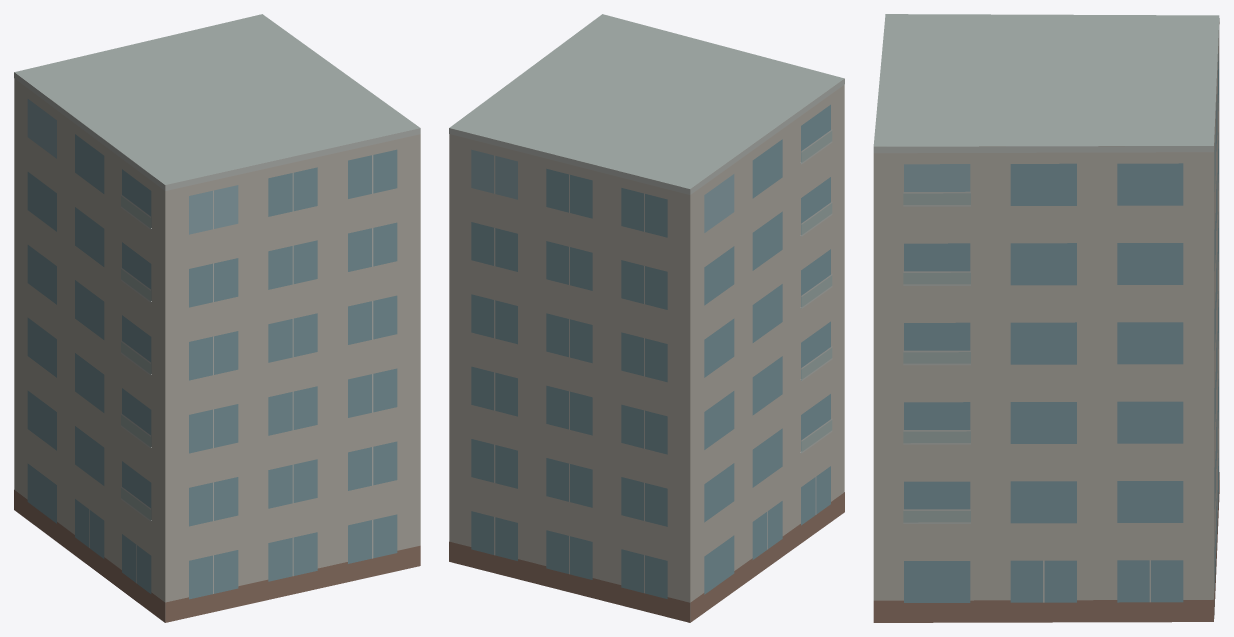
File: survey-upis-32983628.glb
The picture shows the model from 3 angles, left to right: view 1: azimuth 30°, elevation 25°; view 2: azimuth 150°, elevation 25°; view 3: azimuth 270°, elevation 25°; orthographic projection. The views are drawn at different scales.
Parts seen in each view (by area): view 1: survey-upis-32983628.tmp; view 2: survey-upis-32983628.tmp; view 3: survey-upis-32983628.tmp.
Part boxes in pixels (bbox=[...]): survey-upis-32983628.tmp: bbox=[14, 14, 420, 622]; survey-upis-32983628.tmp: bbox=[449, 14, 844, 622]; survey-upis-32983628.tmp: bbox=[873, 14, 1219, 622].
Bounding box in the file's own units: 10.7 × 17.8 × 11.73.
